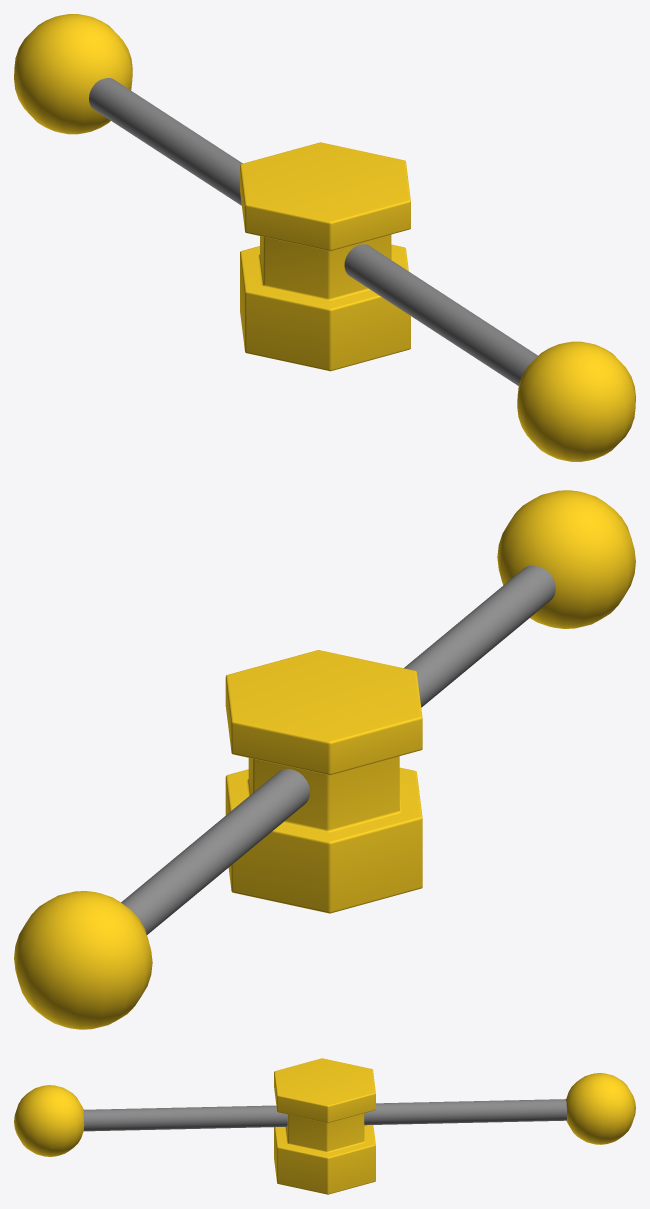
File: Cubuklutop.fbx
3 views of the same model, one above another, from view 1: azimuth 30°, elevation 25°; view 2: azimuth 150°, elevation 25°; view 3: azimuth 270°, elevation 25° (orthographic). The views are drawn at different scales.
Parts seen in each view (by area): view 1: Cylinder.001; view 2: Cylinder.001; view 3: Cylinder.001.
Part boxes in pixels (<box>): Cylinder.001: <box>14,14,635,461</box>; Cylinder.001: <box>14,490,635,1029</box>; Cylinder.001: <box>14,1058,635,1194</box>.
Size of the model in its own units: 97.24 by 83.69 by 531.
